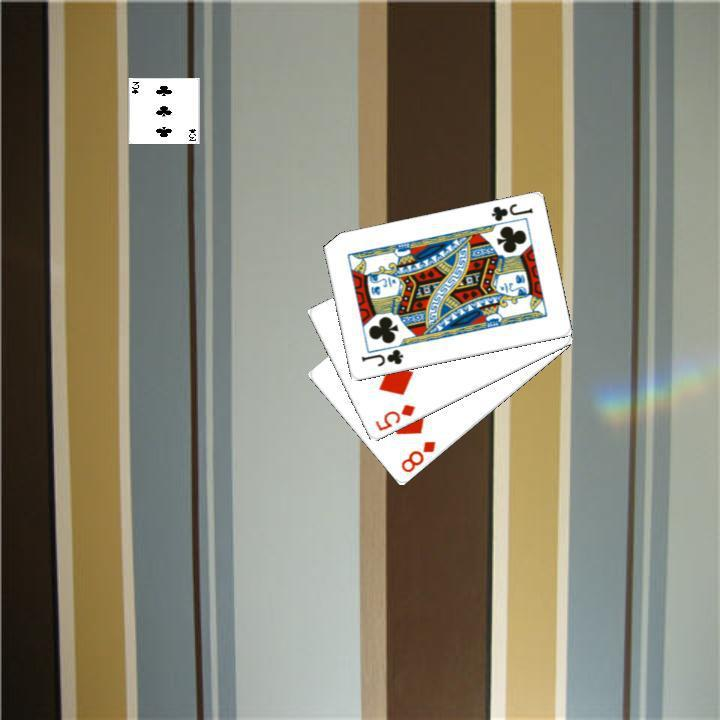5: (370, 400, 417, 434)
8: (396, 437, 438, 475)
J: (356, 345, 405, 369), (487, 199, 534, 224)
